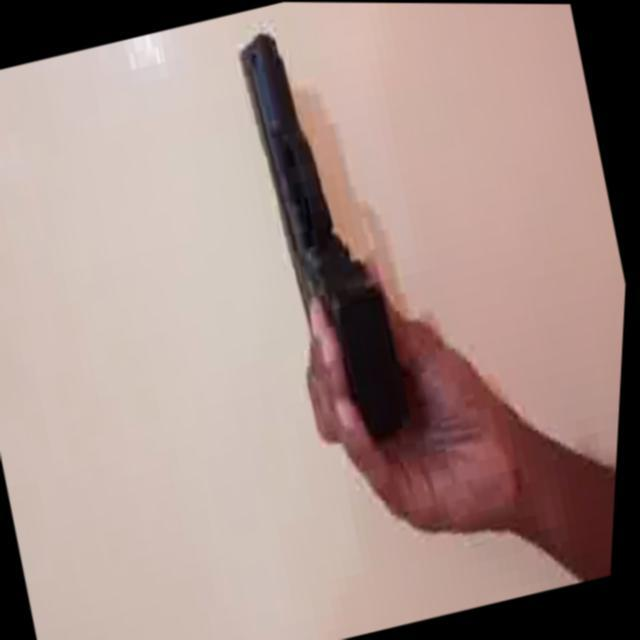weapon: (216, 8, 437, 455)
